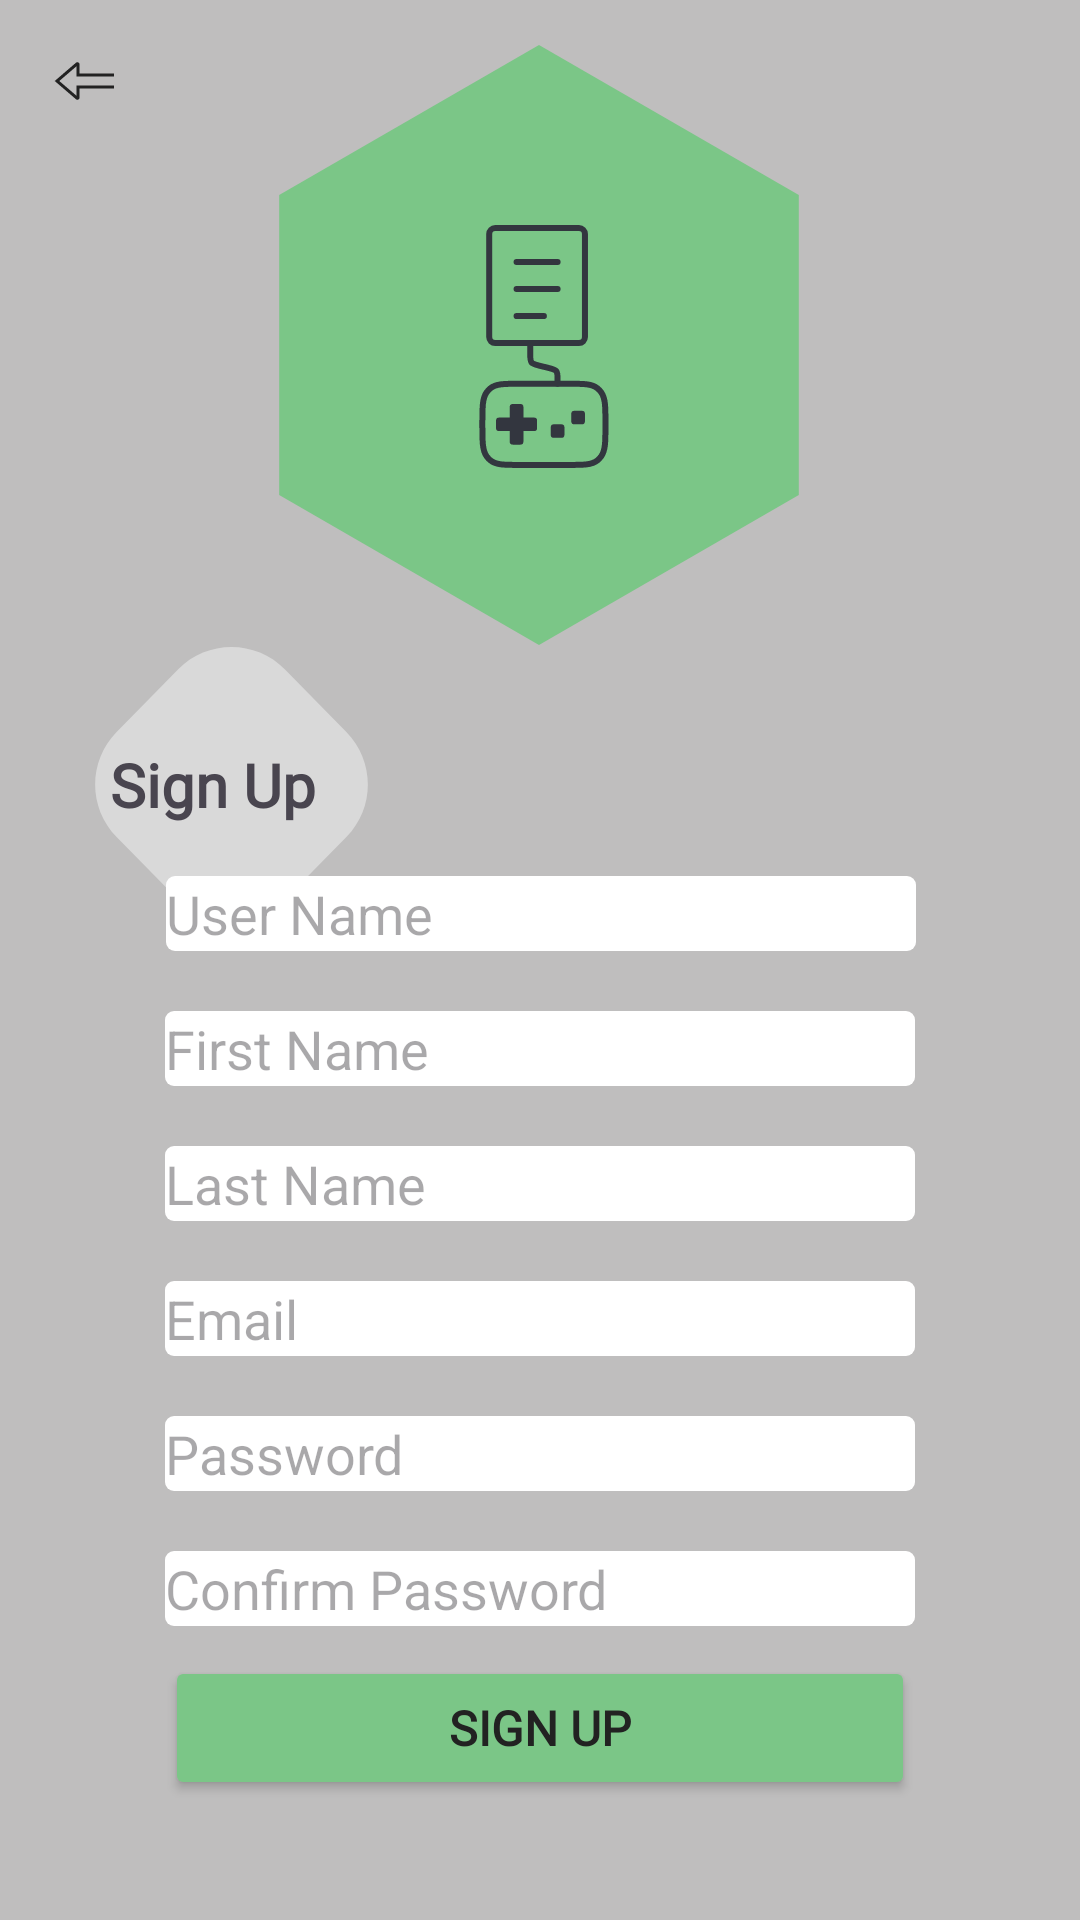

Where icons sit on this 1080x1920 app screen, as [left=x1, top=y1, right=x2, bottom=y2]:
back arrow: [left=55, top=62, right=114, bottom=100]
